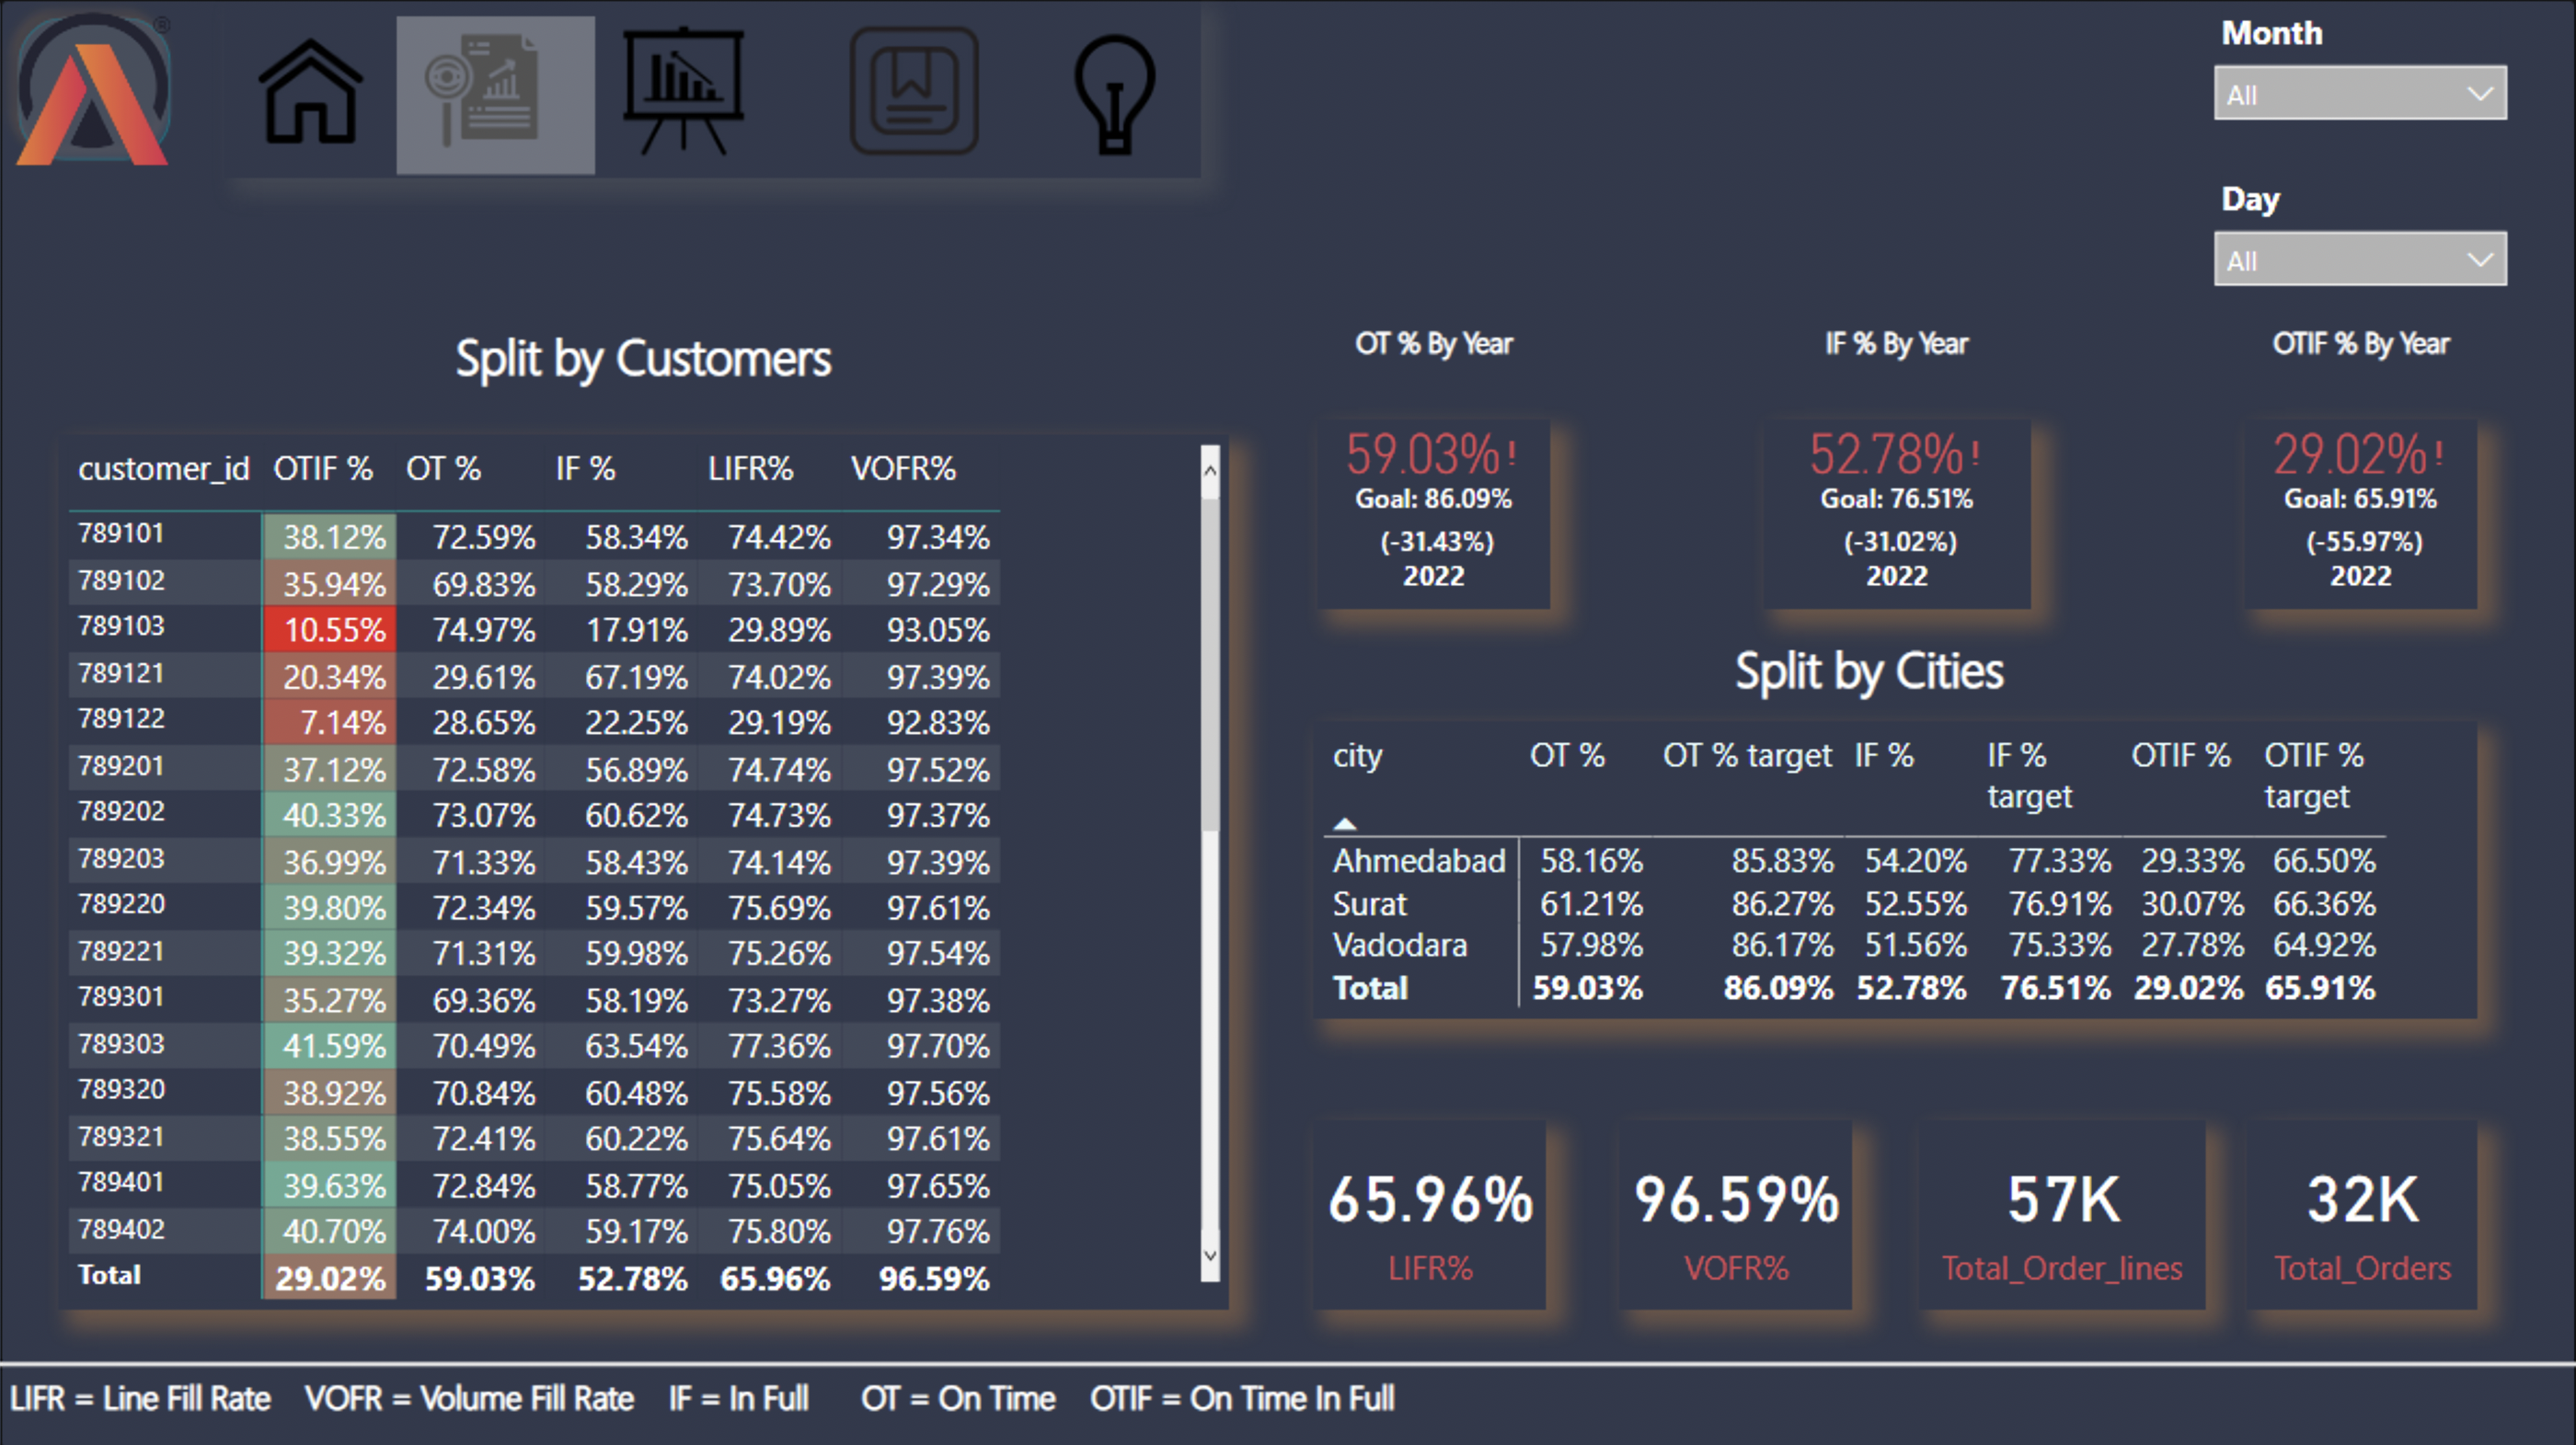

What the dashboard file says about the page in this screenshot:
{"tool":"powerbi","page":{"name":"Overall View","canvas":[1280,720],"ordinal":1},"visuals":[{"type":"pivotTable","fields":{"Rows":["dim_customers.customer_id"],"Values":["DAX measures.OTIF %","DAX measures.OT %","DAX measures.IF %","DAX measures.LIFR%","DAX measures.VOFR%"]},"box":[28.7,215.9,581.8,435.1],"z":0},{"type":"pivotTable","fields":{"Values":["DAX measures.OT %","DAX measures.OT % target","DAX measures.IF %","DAX measures.IF % target","DAX measures.OTIF %","DAX measures.OTIF % target"],"Rows":["dim_customers.city"]},"box":[652.6,359.2,578.4,148.4],"z":1000},{"type":"kpi","fields":{"Indicator":["DAX measures.OT %"],"Goal":["DAX measures.OT % target"],"TrendLine":["dim_date.date.Variation.Date Hierarchy.Year"]},"box":[654.3,209.1,116.4,94.4],"z":2000},{"type":"kpi","fields":{"Indicator":["DAX measures.IF %"],"Goal":["DAX measures.IF % target"],"TrendLine":["dim_date.date.Variation.Date Hierarchy.Year"]},"box":[876.1,209.1,133.2,94.4],"z":3000},{"type":"kpi","fields":{"Goal":["DAX measures.OTIF % target"],"Indicator":["DAX measures.OTIF %"],"TrendLine":["dim_date.date.Variation.Date Hierarchy.Year"]},"box":[1114.7,209.1,116.4,94.4],"z":4000},{"type":"slicer","fields":{"Values":["dim_date.Month"]},"box":[1090.9,0,164.8,76],"z":5000},{"type":"slicer","fields":{"Values":["dim_date.date.Variation.Date Hierarchy.Day"]},"box":[1090.9,82.4,164.8,72.7],"z":6000},{"type":"card","fields":{"Values":["DAX measures.VOFR%"]},"box":[804.4,556.5,116.4,94.4],"z":7000},{"type":"card","fields":{"Values":["DAX measures.LIFR%"]},"box":[652.6,556.5,116.4,94.4],"z":8000},{"type":"shape","title":"BOX","box":[111.5,0,484.8,88.9],"z":8500},{"type":"image","box":[111.3,8.4,86,74.2],"z":9000},{"type":"image","box":[197.3,8.4,84.3,74.2],"z":10000},{"type":"image","box":[296.8,8.4,86,74.2],"z":11000},{"type":"image","box":[411.5,8.4,86,74.2],"z":12000},{"type":"image","box":[511,8.4,86,74.2],"z":13000},{"type":"shape","box":[0,0,93.7,88.9],"z":14000},{"type":"image","box":[0,0,94.4,87.7],"z":15000},{"type":"textbox","box":[28.7,155.2,581.8,54],"z":16000},{"type":"textbox","box":[652.6,310.3,553.1,48.9],"z":17000},{"type":"card","fields":{"Values":["DAX measures.Total_Orders"]},"box":[1116.4,556.5,114.7,94.4],"z":18000},{"type":"card","fields":{"Values":["DAX measures.Total_Order_lines"]},"box":[952.8,556.5,141.7,94.4],"z":19000},{"type":"shape","box":[0,635.8,1280,84.3],"z":20000},{"type":"textbox","box":[0,677.9,1280,42.2],"z":21000},{"type":"textbox","box":[654.3,155.2,116.4,38.8],"z":22000},{"type":"textbox","box":[875.3,155.2,134.9,38.8],"z":23000},{"type":"textbox","box":[1114.7,155.2,116.4,38.8],"z":24000},{"type":"shape","box":[197.3,8.4,99.5,79.3],"z":26000}]}

Visuals, with their boxes in screenshot pixels (x1, y1, x2, y2), scaled from the page's 1280x720 canvas onto the 2576x1445 screenshot:
pivotTable - dim_customers.customer_id x DAX measures.OTIF %: box=[58, 433, 1228, 1306]
pivotTable - DAX measures.OT % x DAX measures.OT % target: box=[1314, 721, 2478, 1019]
kpi - DAX measures.OT % x DAX measures.OT % target: box=[1317, 419, 1551, 609]
kpi - DAX measures.IF % x DAX measures.IF % target: box=[1763, 419, 2031, 609]
kpi - DAX measures.OTIF % target x DAX measures.OTIF %: box=[2243, 419, 2478, 609]
slicer - dim_date.Month: box=[2195, 0, 2527, 153]
slicer - dim_date.date.Variation.Date Hierarchy.Day: box=[2195, 166, 2527, 311]
card - DAX measures.VOFR%: box=[1619, 1117, 1853, 1306]
card - DAX measures.LIFR%: box=[1314, 1117, 1547, 1306]
"BOX" shape: box=[224, 0, 1200, 178]
image: box=[224, 17, 397, 166]
image: box=[397, 17, 567, 166]
image: box=[597, 17, 770, 166]
image: box=[828, 17, 1001, 166]
image: box=[1029, 17, 1202, 166]
shape: box=[0, 0, 189, 178]
image: box=[0, 0, 190, 176]
textbox: box=[58, 312, 1228, 419]
textbox: box=[1314, 623, 2426, 721]
card - DAX measures.Total_Orders: box=[2247, 1117, 2478, 1306]
card - DAX measures.Total_Order_lines: box=[1917, 1117, 2202, 1306]
shape: box=[0, 1276, 2575, 1444]
textbox: box=[0, 1360, 2575, 1444]
textbox: box=[1317, 312, 1551, 389]
textbox: box=[1762, 312, 2033, 389]
textbox: box=[2243, 312, 2478, 389]
shape: box=[397, 17, 597, 176]
